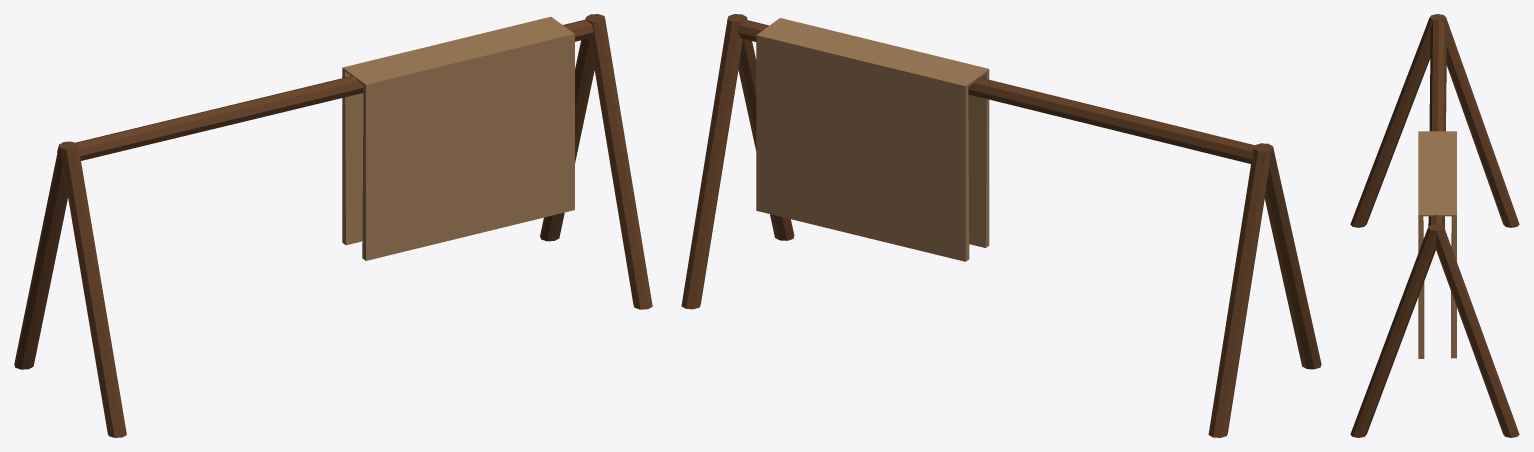
The model's file is Dry Rack V1.fbx.
3 renders of one model, left to right at view 1: azimuth 30°, elevation 25°; view 2: azimuth 150°, elevation 25°; view 3: azimuth 270°, elevation 25°, orthographic. The views are drawn at different scales.
Visible parts, largest first — view 1: Dry Rack V1; view 2: Dry Rack V1; view 3: Dry Rack V1.
Part boxes in pixels (x1,y1,x2,y2): Dry Rack V1: (14, 14, 652, 437); Dry Rack V1: (681, 14, 1321, 437); Dry Rack V1: (1350, 14, 1519, 437).
Bounding box in the file's own units: 201 × 89.3 × 66.2.
